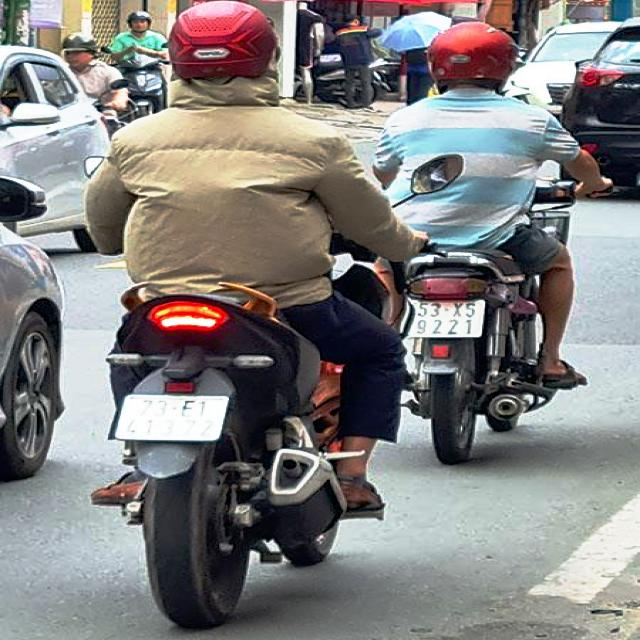license_plate: (112, 390, 232, 441), (406, 297, 489, 338)
